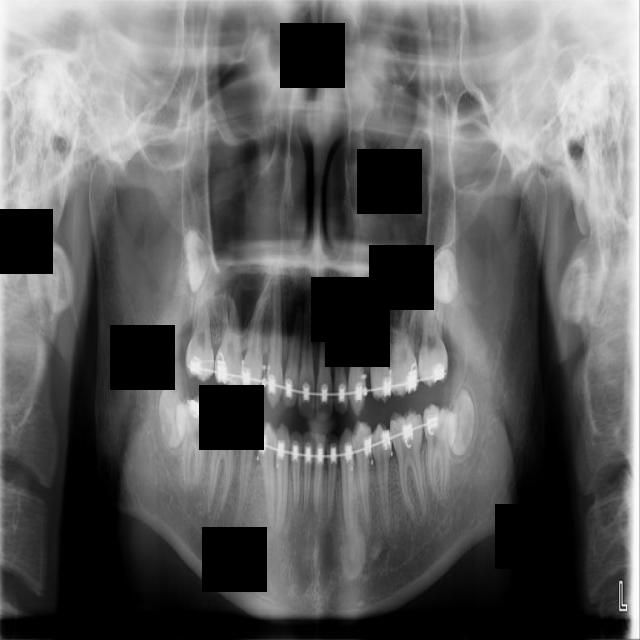3M ESPE Implant: (181, 229, 209, 291)
73: (541, 600, 547, 605)
BioHorizons Implant: (414, 275, 450, 388)
BioLife Implant: (426, 248, 460, 306)
Biomet 3i Implant: (444, 387, 479, 459)
Blue Sky Bio Implant: (416, 404, 460, 502)
Caries: (179, 288, 216, 384)
Implant: (167, 392, 213, 488)
Keystone Dental Implant: (155, 381, 188, 451)
